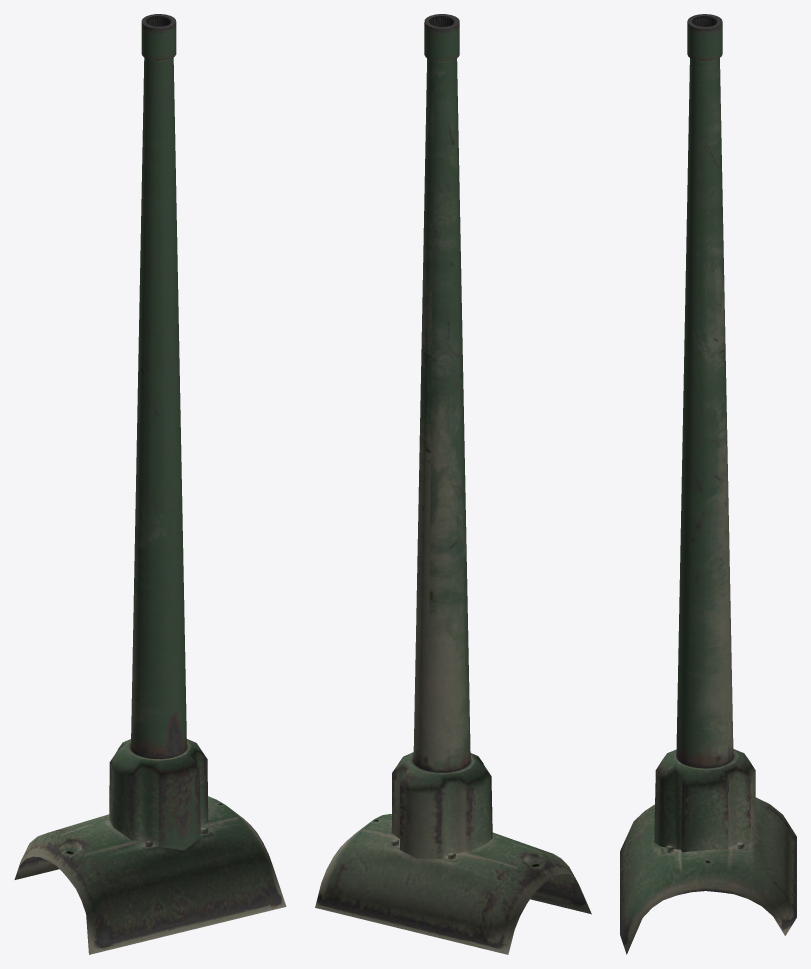
Rendered from Gun_01.glb.
3 views of the same model, side by side, from view 1: azimuth 30°, elevation 25°; view 2: azimuth 150°, elevation 25°; view 3: azimuth 270°, elevation 25° (orthographic).
Visible parts, largest first — view 1: set_0_group_0; view 2: set_0_group_0; view 3: set_0_group_0.
Part boxes in pixels (x1=…): set_0_group_0: x1=14, y1=14, x2=286, y2=954; set_0_group_0: x1=315, y1=14, x2=591, y2=954; set_0_group_0: x1=620, y1=14, x2=796, y2=954.
Size of the model in its own units: 0.8174 by 3.47 by 0.6263.
Materials: 1 (1 with a texture image).
